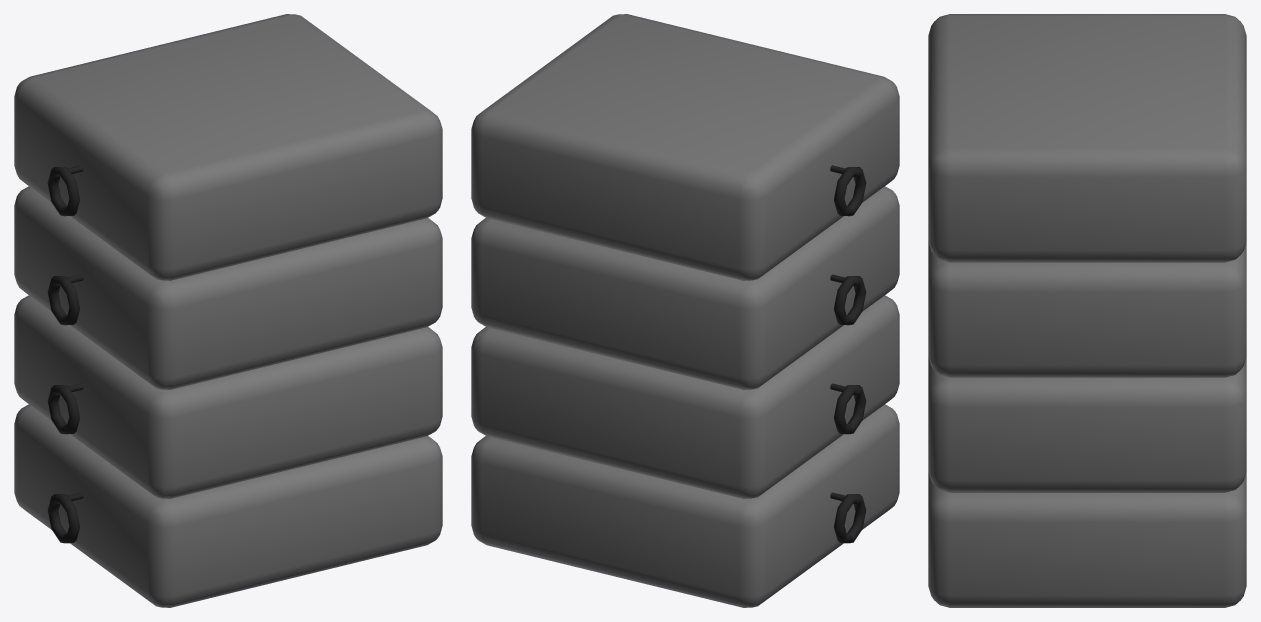
The model's file is Drawer.fbx.
3 views of the same model, side by side, from view 1: azimuth 30°, elevation 25°; view 2: azimuth 150°, elevation 25°; view 3: azimuth 270°, elevation 25° (orthographic). The views are drawn at different scales.
Parts seen in each view (by area): view 1: Drawer; view 2: Drawer; view 3: Drawer.
Boxes of the visible parts, x1,y1,x2,y2 form: Drawer: (14,14,442,607); Drawer: (471,14,899,607); Drawer: (928,14,1246,607).
Size of the model in its own units: 0.4121 by 0.3408 by 0.5406.
